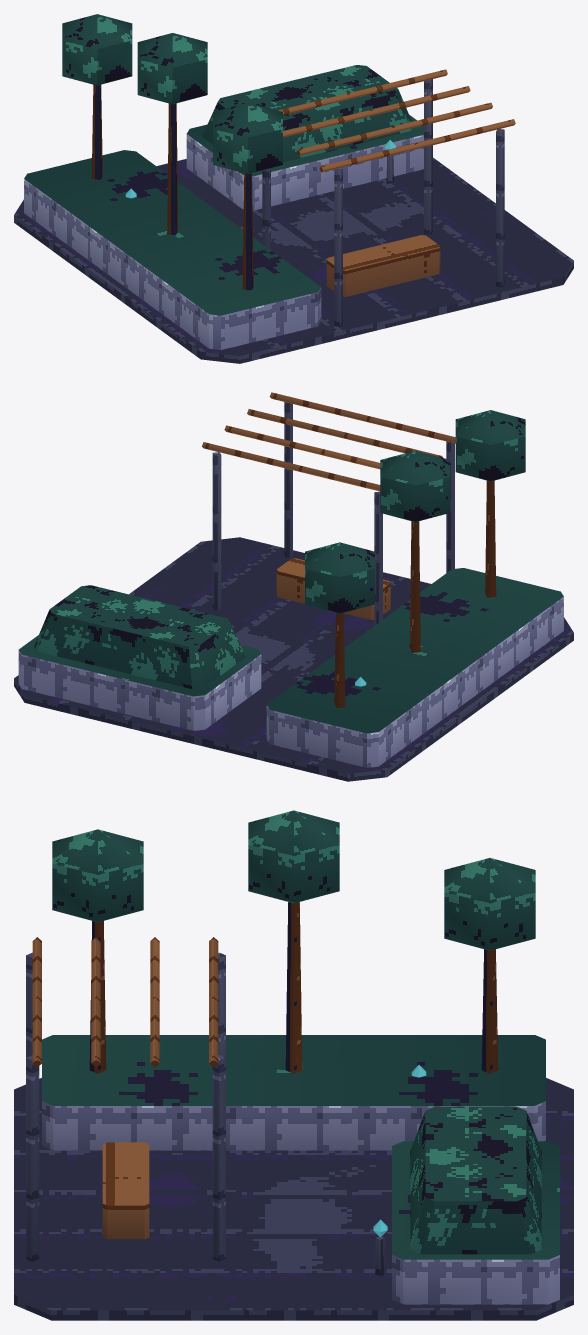
Rendered from cytower.garden.glb.
3 views of the same model, one above another, from view 1: azimuth 30°, elevation 25°; view 2: azimuth 150°, elevation 25°; view 3: azimuth 270°, elevation 25° (orthographic). The views are drawn at different scales.
Parts seen in each view (by area): view 1: kit_beds, kit_plants, kit_pergola; view 2: kit_beds, kit_plants, kit_pergola; view 3: kit_beds, kit_plants, kit_pergola.
Boxes of the visible parts, x1,y1,x2,y2 form: kit_beds: [14, 114, 573, 363]; kit_plants: [62, 14, 412, 290]; kit_pergola: [125, 69, 515, 326]; kit_beds: [14, 537, 573, 781]; kit_plants: [34, 410, 525, 707]; kit_pergola: [202, 392, 455, 686]; kit_beds: [14, 1035, 573, 1320]; kit_plants: [52, 810, 541, 1254]; kit_pergola: [26, 937, 426, 1276].
Size of the model in its own units: 6 by 3.72 by 6.
Materials: 9 (9 with a texture image).
